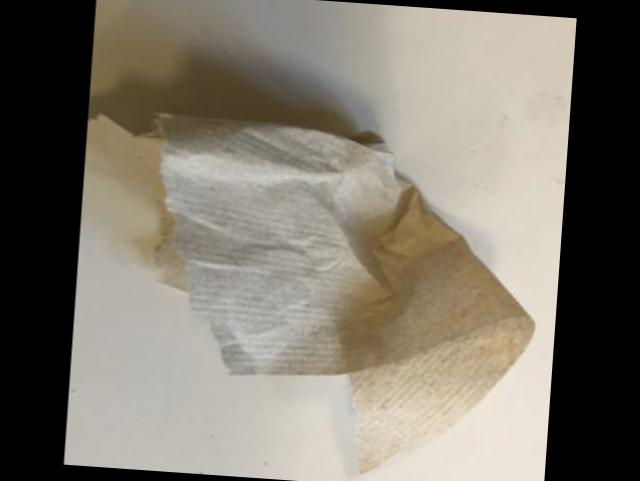cardboard paper: (80, 115, 535, 472)
